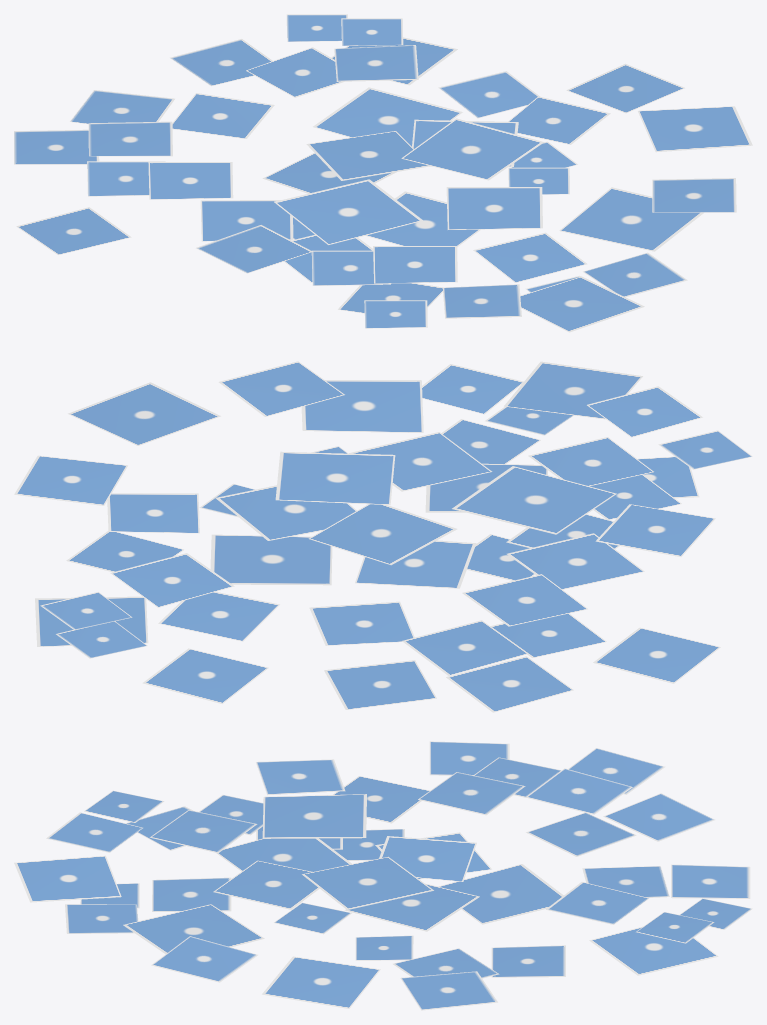
The model's file is Plant_04.glb.
3 views of the same model, one above another, from view 1: azimuth 30°, elevation 25°; view 2: azimuth 150°, elevation 25°; view 3: azimuth 270°, elevation 25° (orthographic). The views are drawn at different scales.
Parts seen in each view (by area): view 1: Plant_04_LOD0; view 2: Plant_04_LOD0; view 3: Plant_04_LOD0.
Boxes of the visible parts, x1,y1,x2,y2 form: Plant_04_LOD0: (14, 14, 752, 332); Plant_04_LOD0: (14, 361, 752, 712); Plant_04_LOD0: (14, 741, 752, 1010).
Size of what is drawn, in the model's own units: 0.6995 by 0.0416 by 0.749.
1 material, 1 textured.
